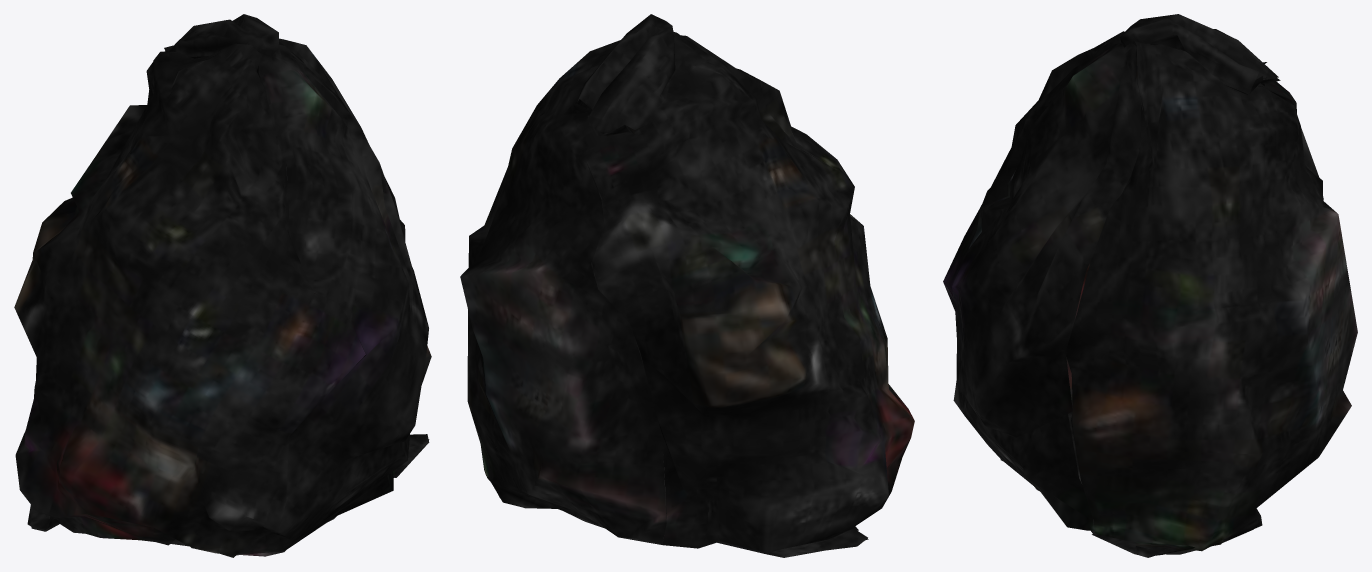
The model's file is trashbag.glb.
The picture shows the model from 3 angles, left to right: view 1: azimuth 30°, elevation 25°; view 2: azimuth 150°, elevation 25°; view 3: azimuth 270°, elevation 25°; orthographic projection.
Visible parts, largest first — view 1: trashbag; view 2: trashbag; view 3: trashbag.
Part boxes in pixels (x1,y1,x2,y2): trashbag: [14, 14, 431, 557]; trashbag: [460, 14, 914, 557]; trashbag: [943, 14, 1357, 557].
Bounding box in the file's own units: 0.5233 × 0.5749 × 0.466.
1 material, 1 textured.
